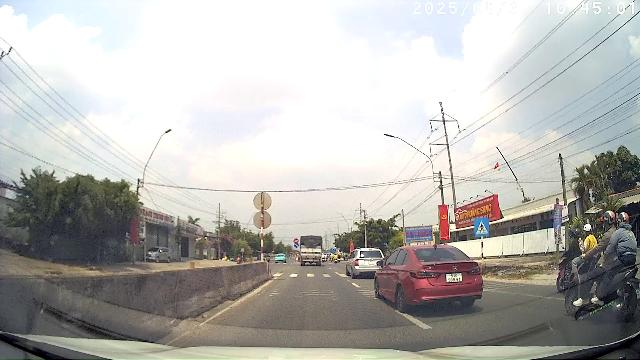423a-duong-nguoi-di-bo-sang-ngang-1: (474, 218, 490, 236)
